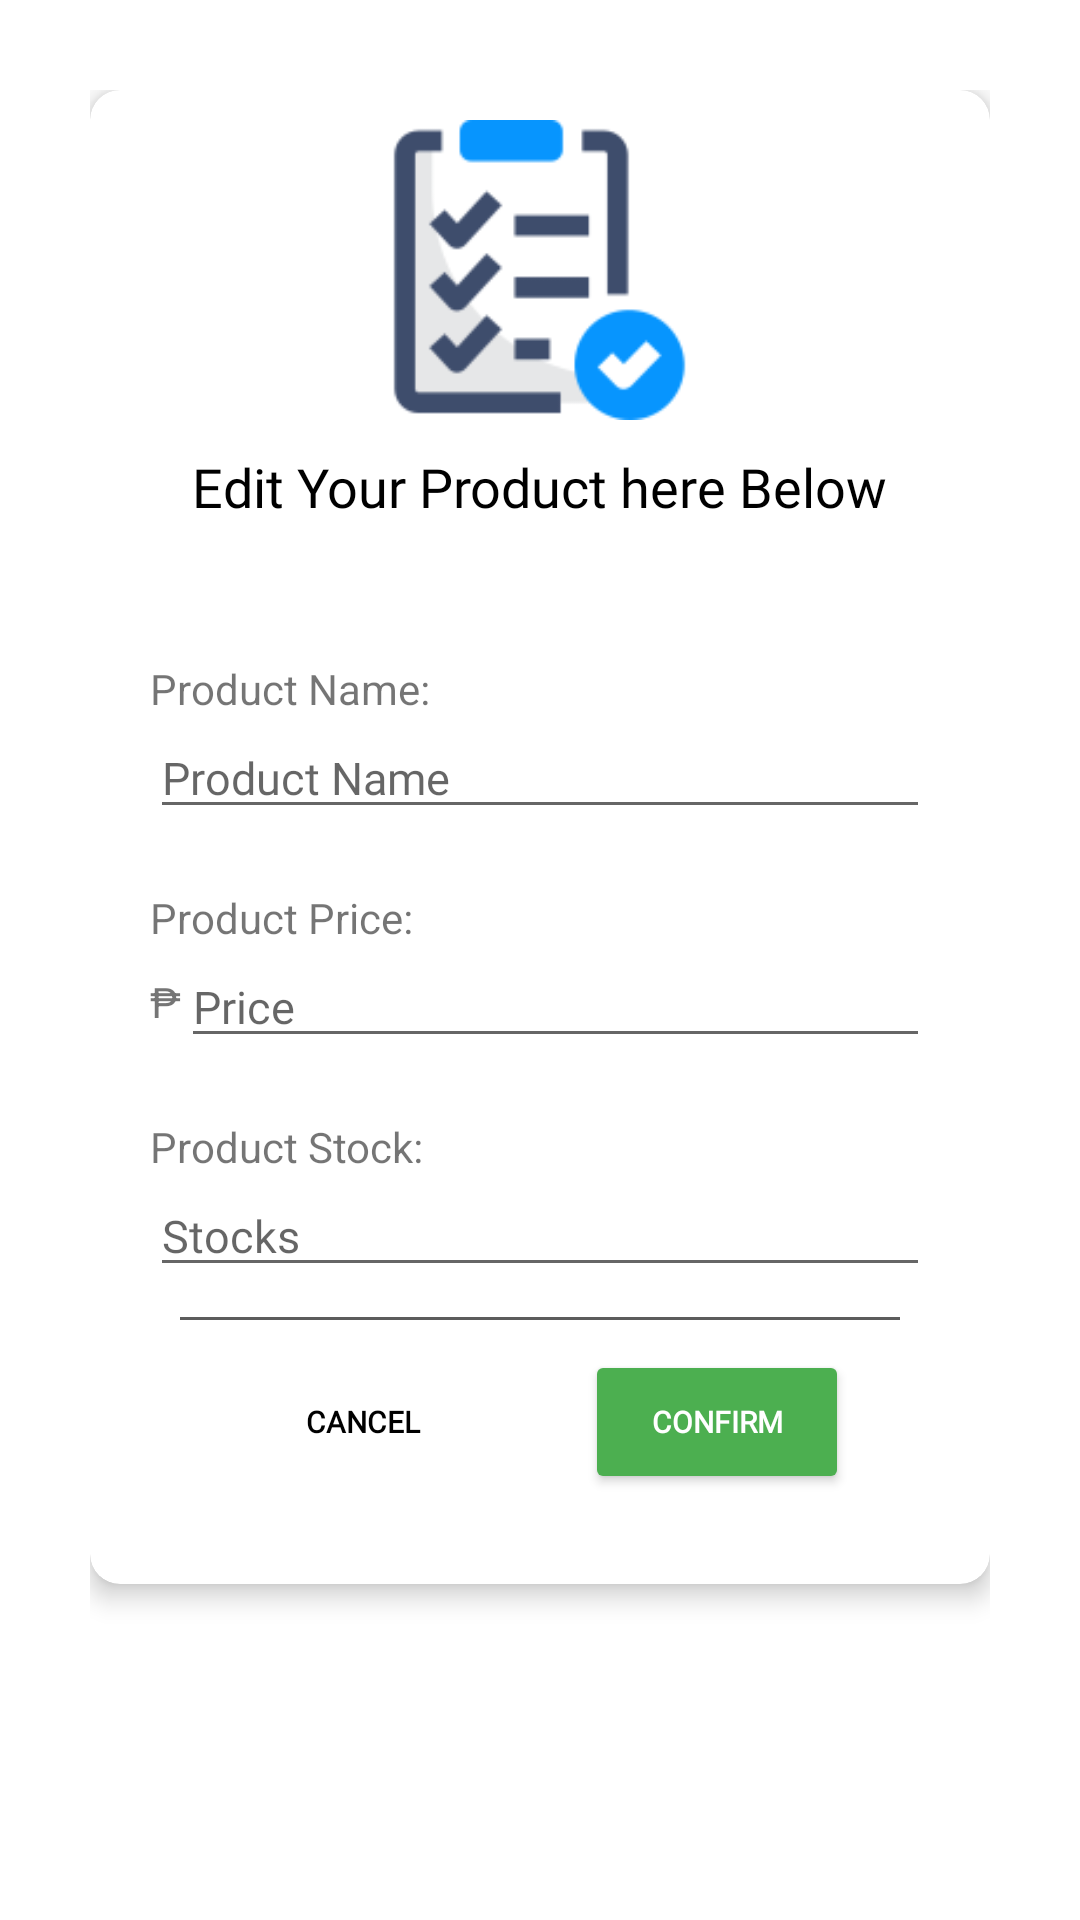

Icons on this 1080*1920 Android screen, each with the point to tap as point (x, y):
done: point (539, 270)
